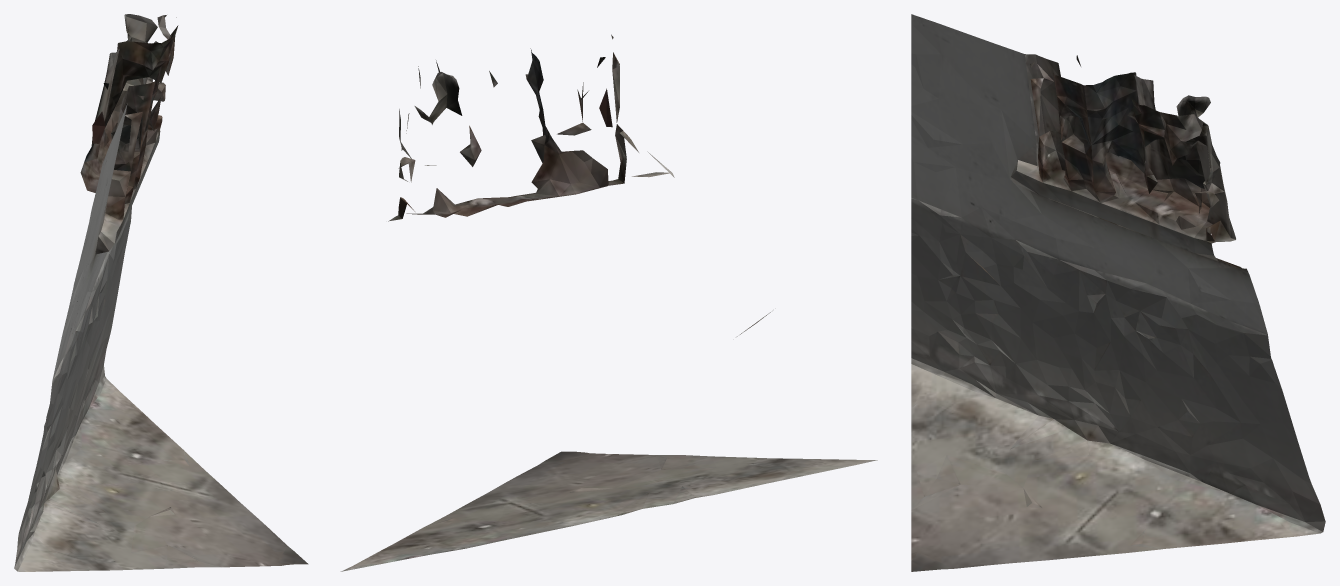
3 views of the same model, side by side, from view 1: azimuth 30°, elevation 25°; view 2: azimuth 150°, elevation 25°; view 3: azimuth 270°, elevation 25° (orthographic). The views are drawn at different scales.
Bounding box in the file's own units: 1.8 × 2.63 × 2.17.
Materials: 2 (2 with a texture image).
